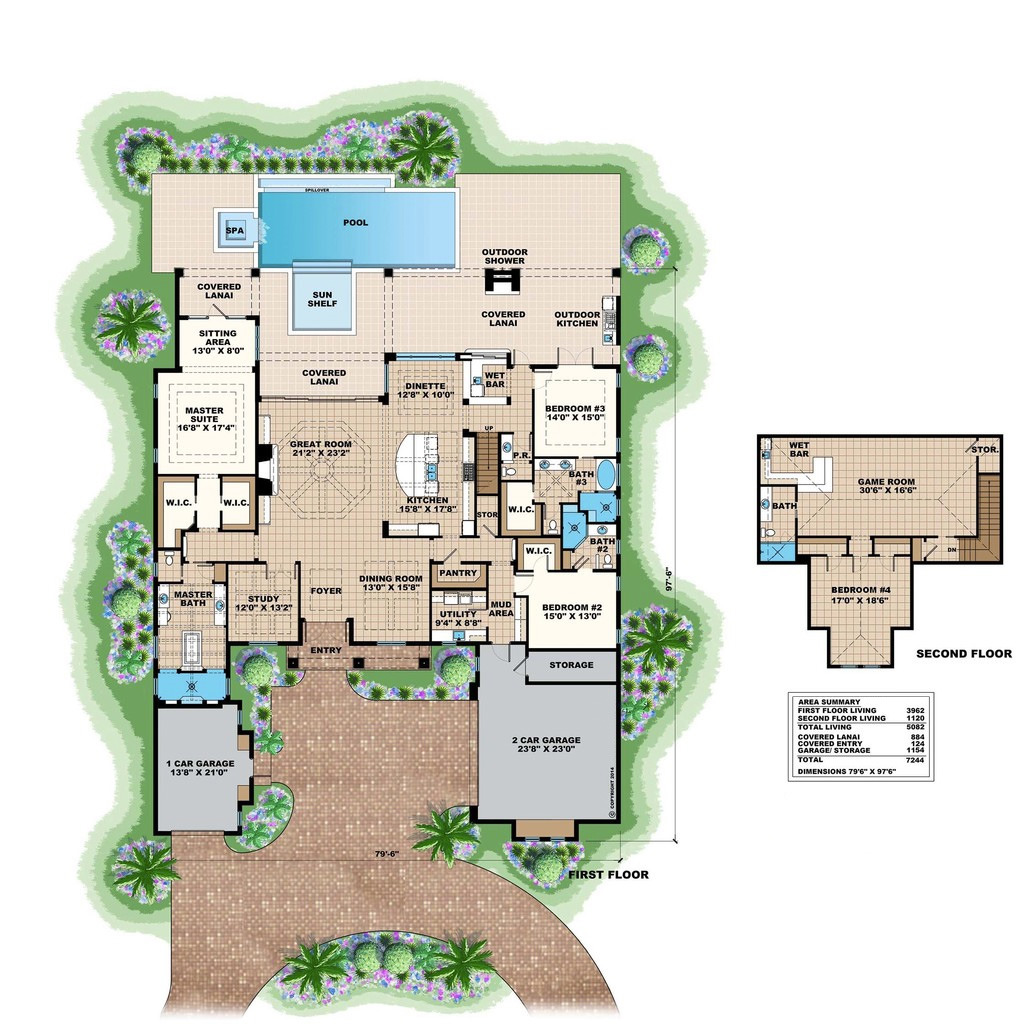covered lanai has outdoor kitchen, spa and swimming pool: (138, 160, 618, 369)
kitchen is located in with dining room with kitchen bar: (267, 357, 498, 645)
master bedroom is with master bathroom and walk in closets: (154, 319, 266, 707)
two bedrooms share a common bathroom with tub, sink and saperate bathing area: (503, 351, 615, 662)
